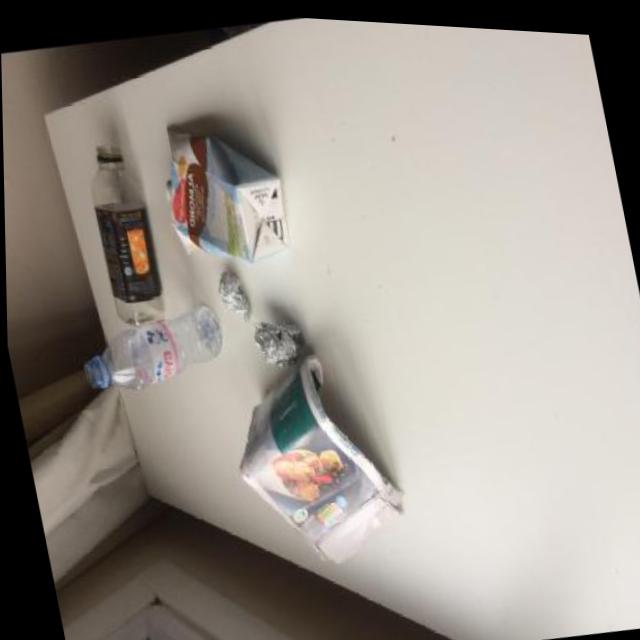cardboard: (216, 333, 418, 583), (152, 109, 295, 277)
metal: (250, 313, 307, 370), (214, 265, 255, 327)
plastic: (73, 291, 231, 402), (80, 137, 168, 330)
